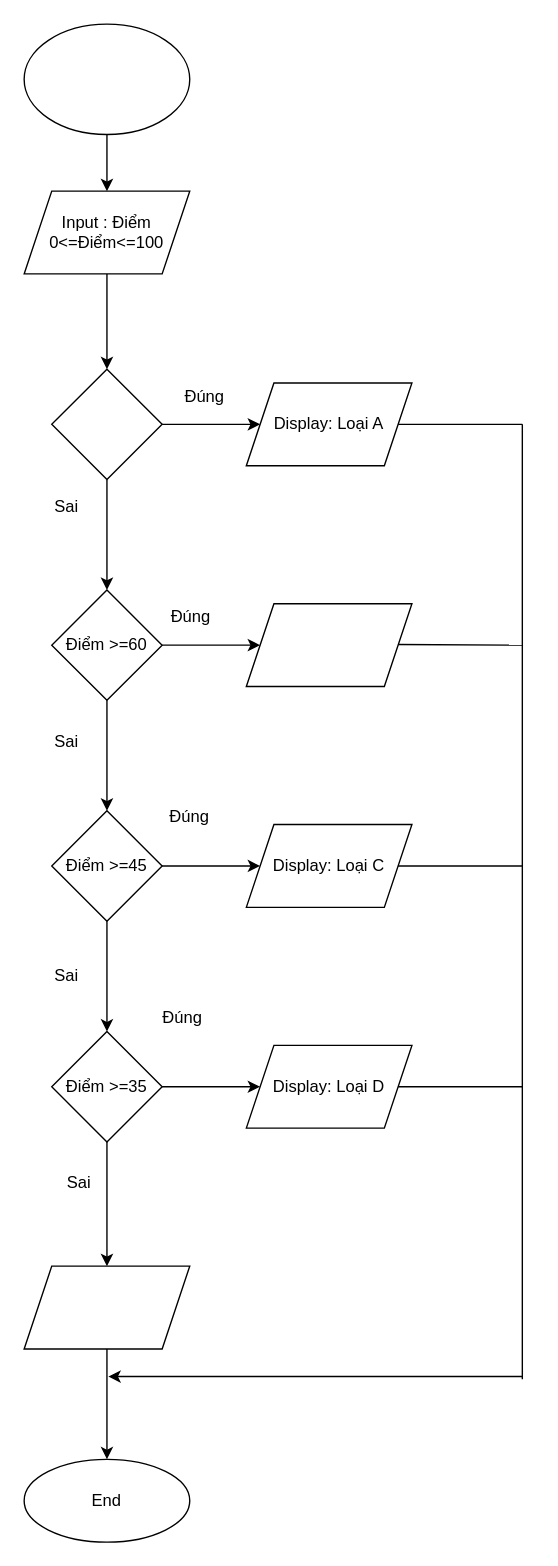
Some shapes in this 558 by 1566 pixel diagram are drawn without their labels. Here are the shapes that lost their labels. From the top down, the centre of each, then its label:
At point 106,79: "Begin".
At point 106,424: "Điểm >=75".
At point 328,644: "Display: Loại B".
At point 106,1307: "Display: Loại E".
